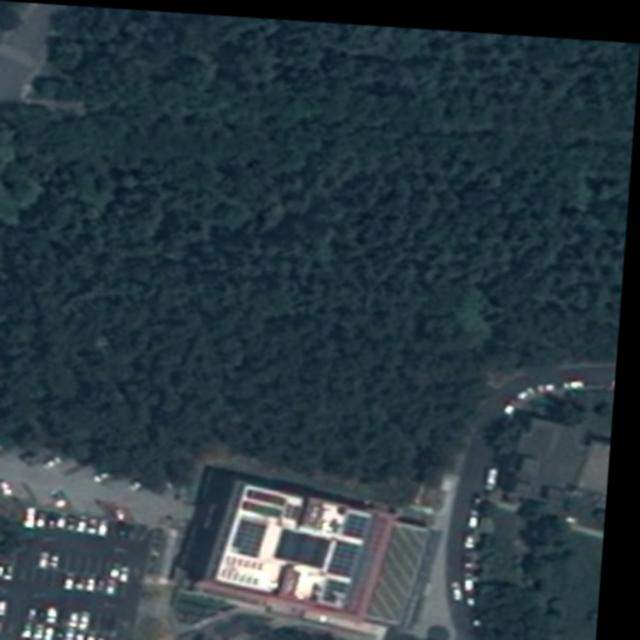Batiment: (224, 480, 378, 600)
